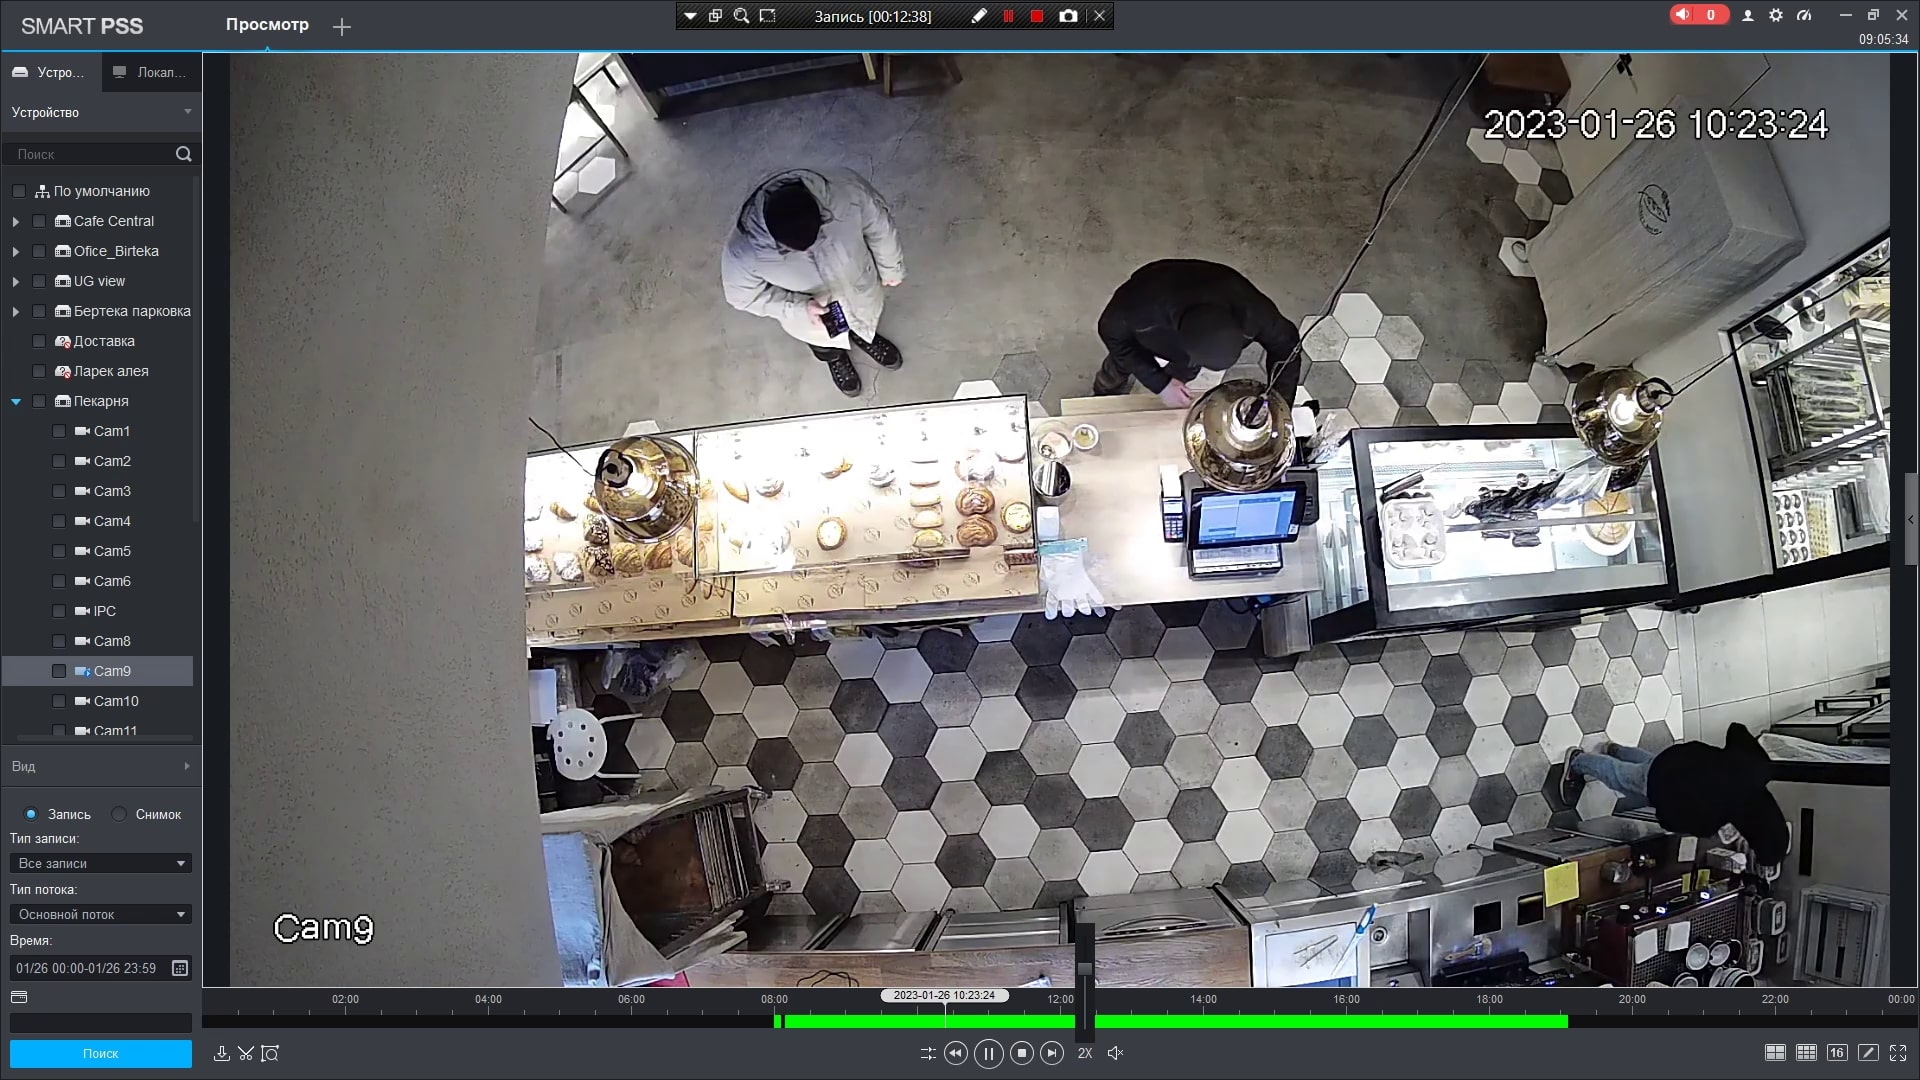barcounter: (537, 433, 1678, 650)
coffee: (1068, 416, 1107, 450)
person: (720, 175, 922, 399), (1548, 705, 1807, 875), (1081, 253, 1308, 419)
